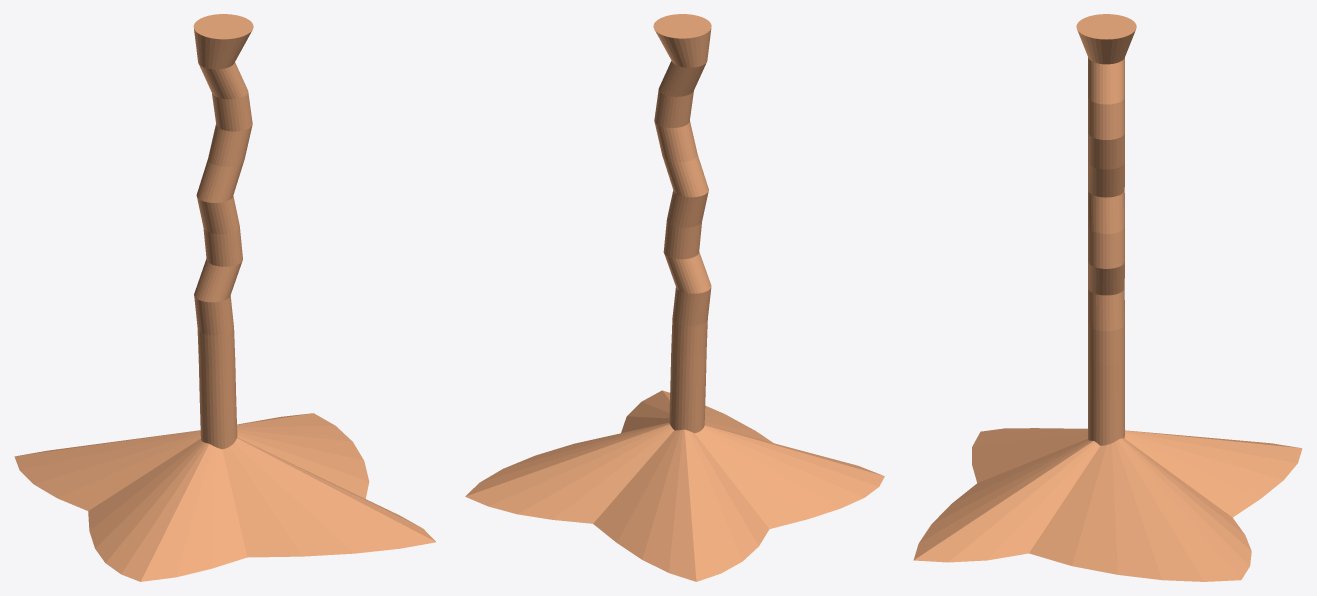
File: lampie zonder lamp beter.glb
The picture shows the model from 3 angles, left to right: view 1: azimuth 30°, elevation 25°; view 2: azimuth 150°, elevation 25°; view 3: azimuth 270°, elevation 25°; orthographic projection. The views are drawn at different scales.
Visible parts, largest first — view 1: lampie_zonder_lamp_beter; view 2: lampie_zonder_lamp_beter; view 3: lampie_zonder_lamp_beter.
Boxes of the visible parts, bbox=[...] form: lampie_zonder_lamp_beter: bbox=[14, 14, 435, 581]; lampie_zonder_lamp_beter: bbox=[465, 14, 884, 581]; lampie_zonder_lamp_beter: bbox=[913, 14, 1302, 581].
Bounding box in the file's own units: 1.86 × 2.69 × 1.99.
